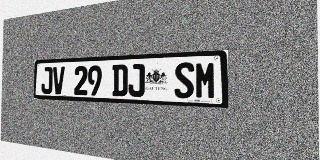2: (74, 66, 88, 95)
9: (88, 65, 102, 96)
D: (112, 64, 128, 97)
J: (128, 64, 145, 97), (41, 67, 53, 94)
M: (195, 61, 216, 99)
S: (174, 62, 194, 99)
V: (53, 66, 65, 94)
